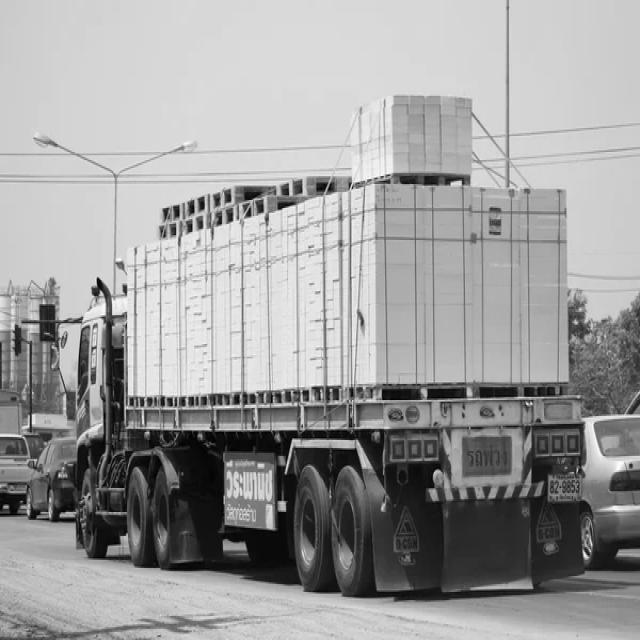Car: (581, 414, 640, 570), (24, 438, 74, 522), (0, 429, 30, 515)
Truck: (70, 142, 587, 596)
